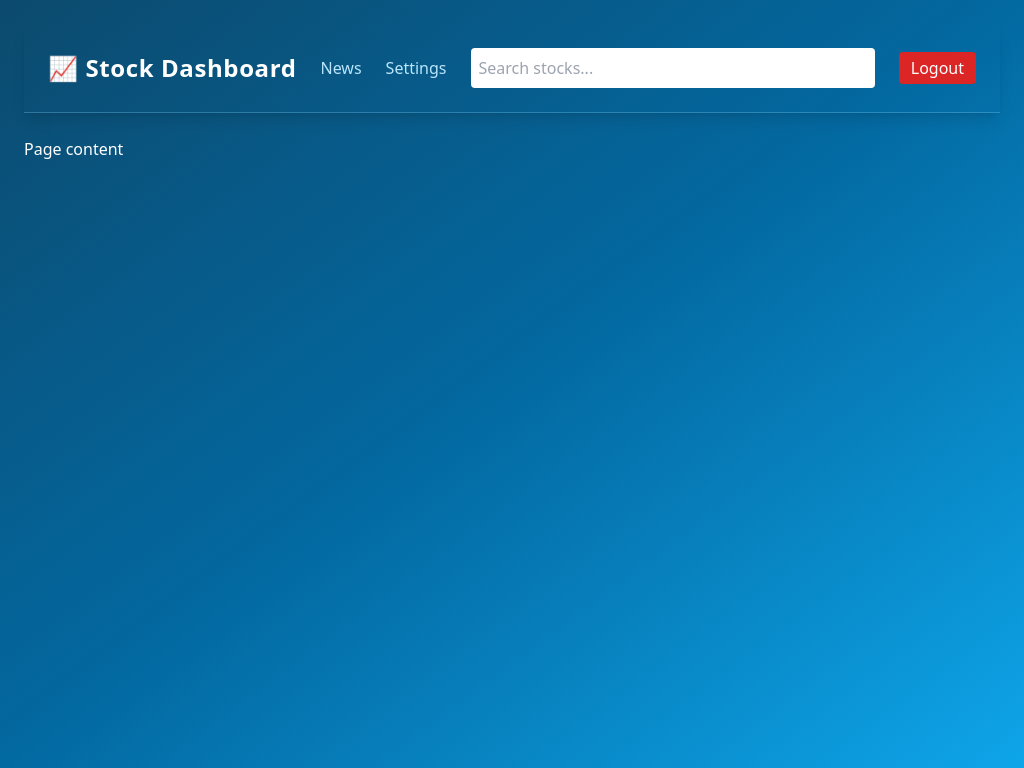
Test: Signed-in layout › searches once typing pauses, not on every keystroke
The image size is (1024, 768).
Type "ap" into the field with placeholder "Search stocks..." at (673, 68), box [470,48,875,88]
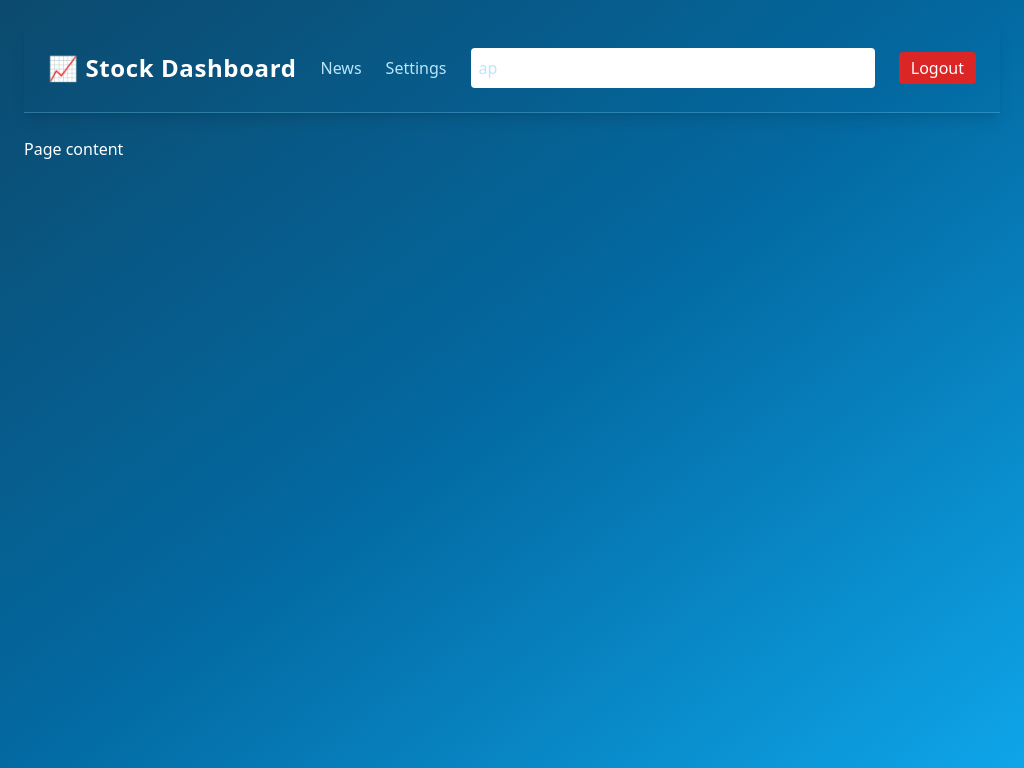
Replace the text in the field with placeholder "Search stocks..." with "app" at (673, 68), box [470,48,875,88]
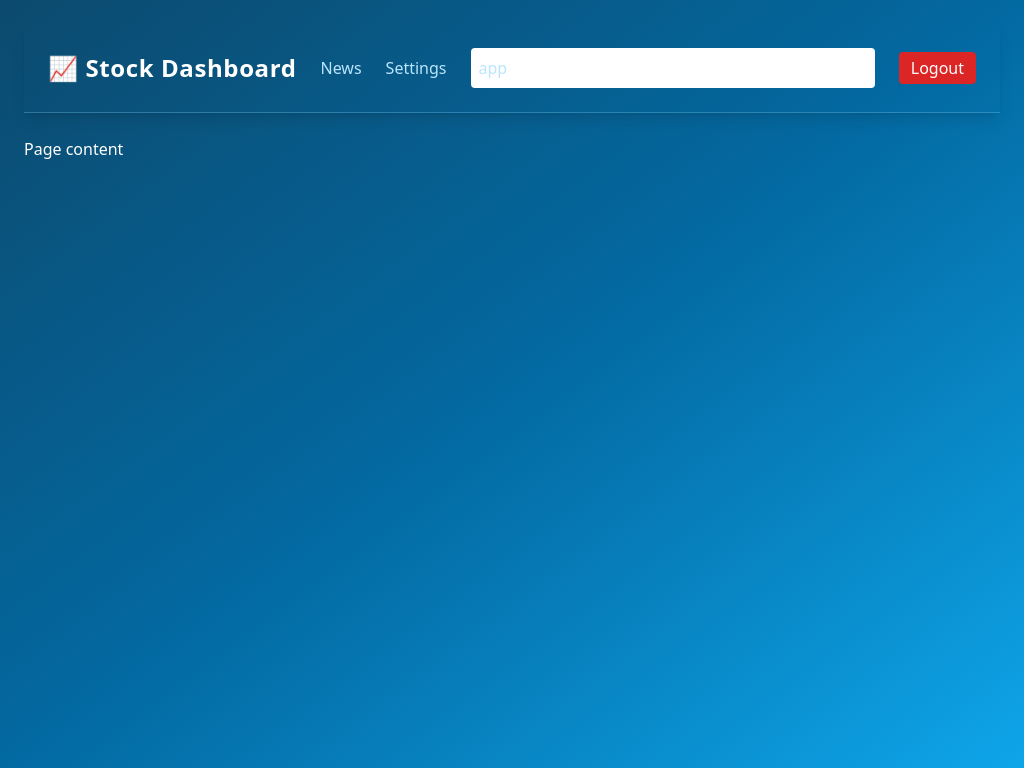
Replace the text in the field with placeholder "Search stocks..." with "appl" at (673, 68), box [470,48,875,88]
Wait 300 ms
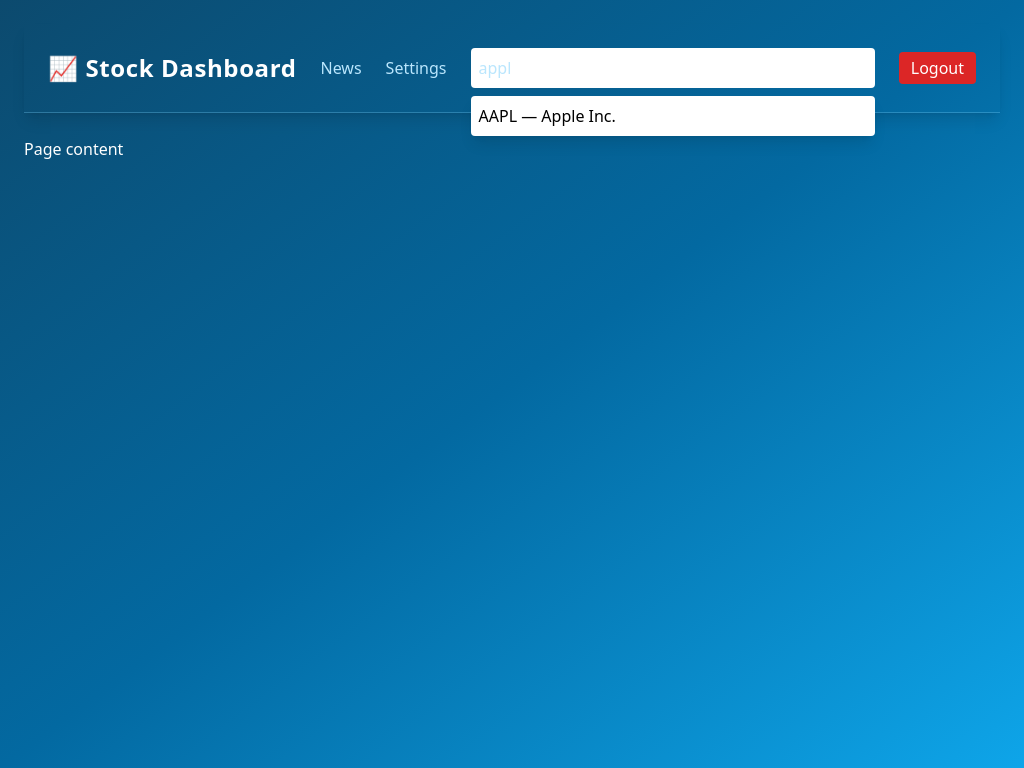
Expected: the list item "AAPL — Apple Inc." is shown, [478,105,616,127]
